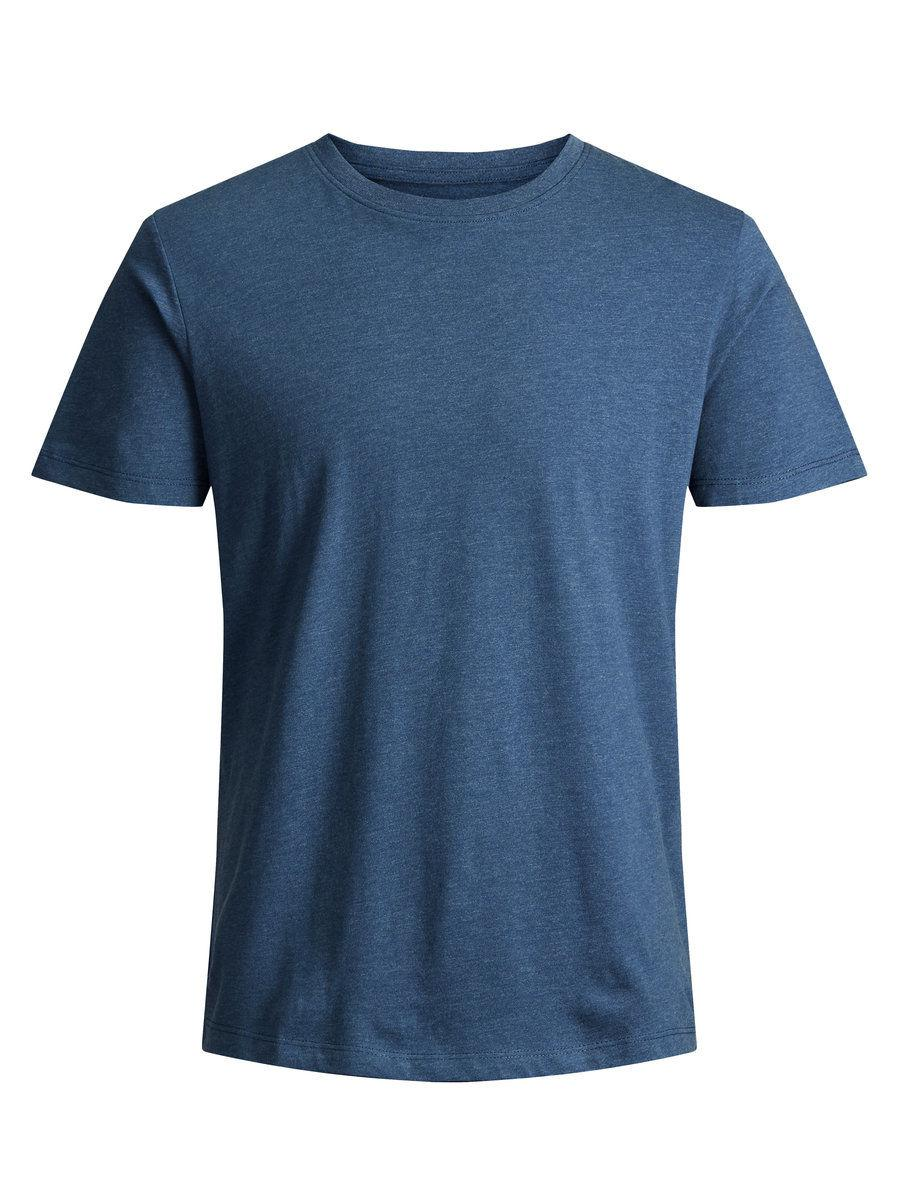teeshirt: (9, 105, 900, 1196)
